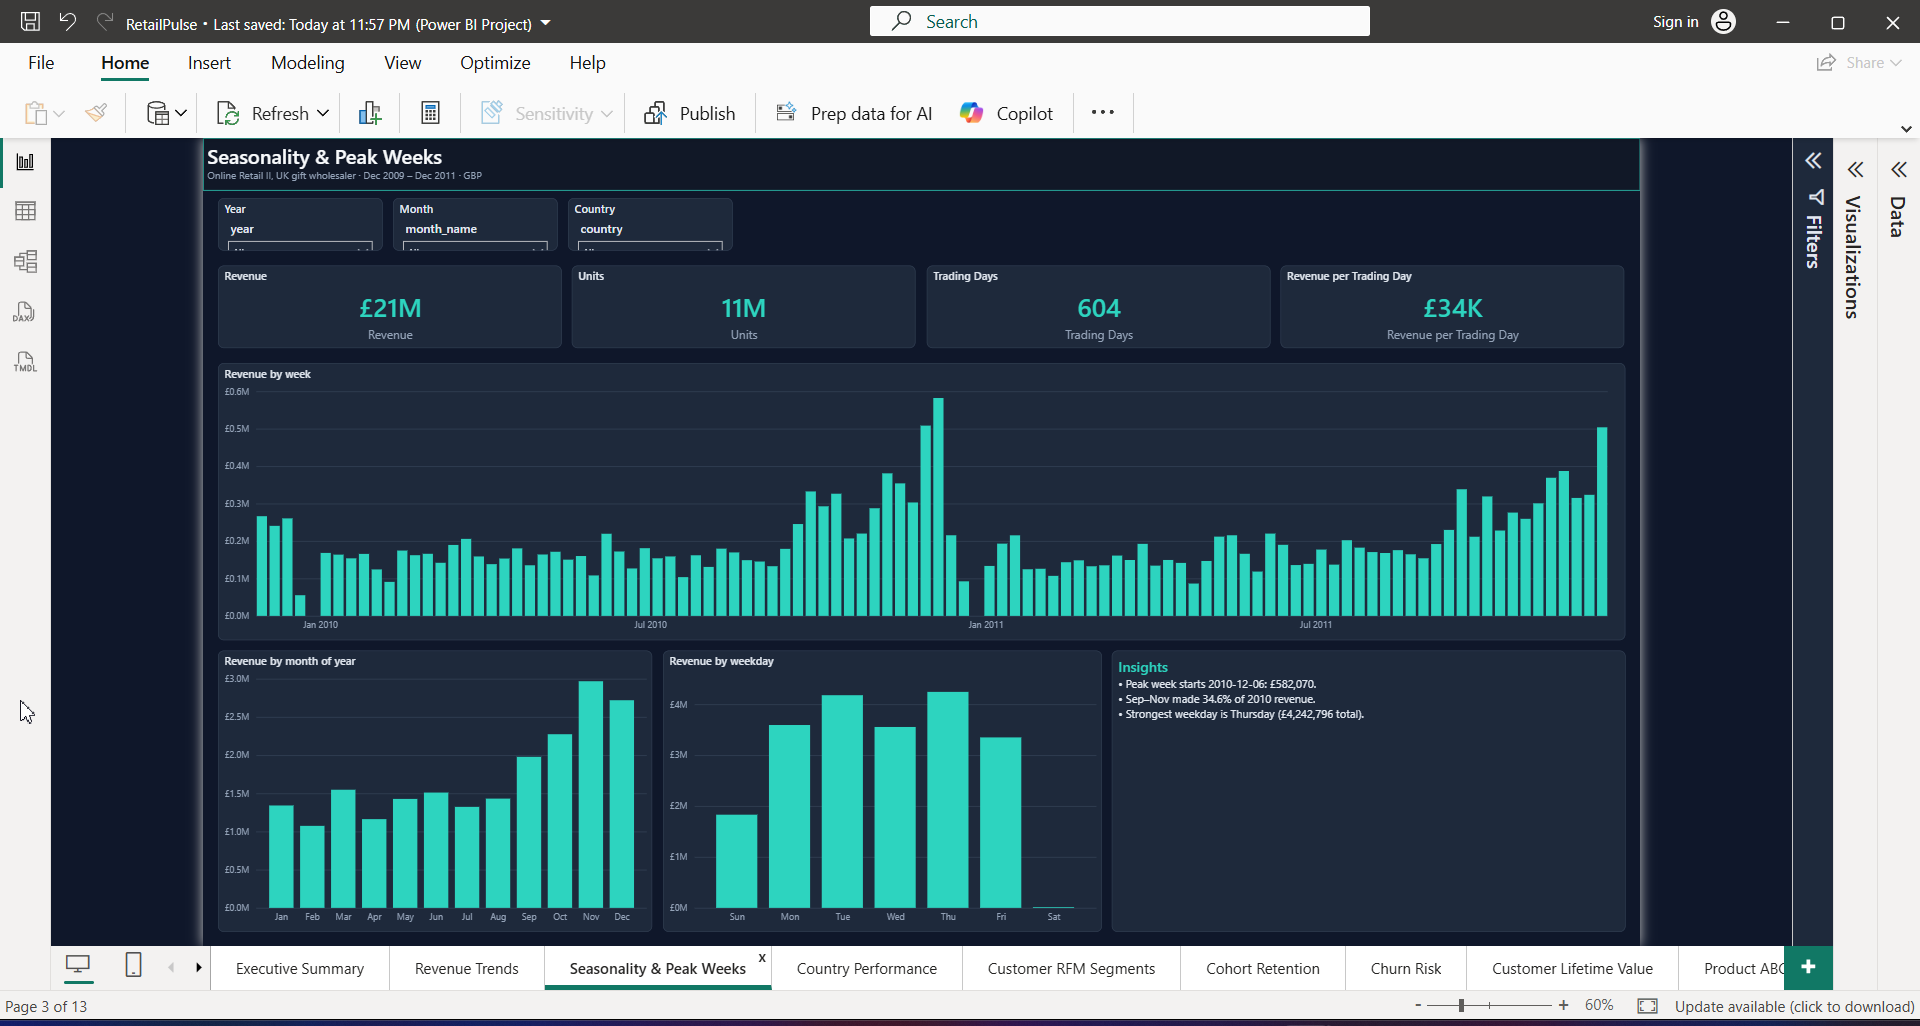

The page's visual inventory and layout, read from the dashboard file:
{"tool":"powerbi","page":{"name":"Seasonality & Peak Weeks","canvas":[1920,1080],"ordinal":2},"visuals":[{"type":"textbox","box":[0,0,1920,70],"z":0},{"type":"slicer","title":"Year","fields":{"Values":["dim_date.year"]},"box":[20,80,220,70],"z":1000},{"type":"slicer","title":"Month","fields":{"Values":["dim_date.month_name"]},"box":[254,80,220,70],"z":2000},{"type":"slicer","title":"Country","fields":{"Values":["dim_country.country"]},"box":[488,80,220,70],"z":3000},{"type":"card","title":"Revenue","fields":{"Values":["_Measures.Revenue"]},"box":[20,170,459,110],"z":4000},{"type":"card","title":"Units","fields":{"Values":["_Measures.Units"]},"box":[493,170,459,110],"z":5000},{"type":"card","title":"Trading Days","fields":{"Values":["_Measures.Trading Days"]},"box":[966,170,459,110],"z":6000},{"type":"card","title":"Revenue per Trading Day","fields":{"Values":["_Measures.Revenue per Trading Day"]},"box":[1439,170,459,110],"z":7000},{"type":"clusteredColumnChart","title":"Revenue by week","fields":{"Category":["dim_date.week_start"],"Y":["_Measures.Revenue"]},"box":[20,300,1880,370],"z":8000},{"type":"clusteredColumnChart","title":"Revenue by month of year","fields":{"Category":["dim_date.month_name"],"Y":["_Measures.Revenue"]},"box":[20,684,580,376],"z":9000},{"type":"clusteredColumnChart","title":"Revenue by weekday","fields":{"Category":["dim_date.weekday_name"],"Y":["_Measures.Revenue"]},"box":[614,684,586,376],"z":10000},{"type":"textbox","box":[1214,684,686,376],"z":11000}]}

Visuals, with their boxes on the page's 1920x1080 design canvas (x1, y1, x2, y2). These are canvas units, not pixel positions in the 1920x1026 screenshot, which may show the page scaled, cropped or inside an application window:
textbox: <box>0,0,1920,70</box>
"Year" slicer: <box>20,80,240,150</box>
"Month" slicer: <box>254,80,474,150</box>
"Country" slicer: <box>488,80,708,150</box>
"Revenue" card: <box>20,170,479,280</box>
"Units" card: <box>493,170,952,280</box>
"Trading Days" card: <box>966,170,1425,280</box>
"Revenue per Trading Day" card: <box>1439,170,1898,280</box>
"Revenue by week" clusteredColumnChart: <box>20,300,1900,670</box>
"Revenue by month of year" clusteredColumnChart: <box>20,684,600,1060</box>
"Revenue by weekday" clusteredColumnChart: <box>614,684,1200,1060</box>
textbox: <box>1214,684,1900,1060</box>
